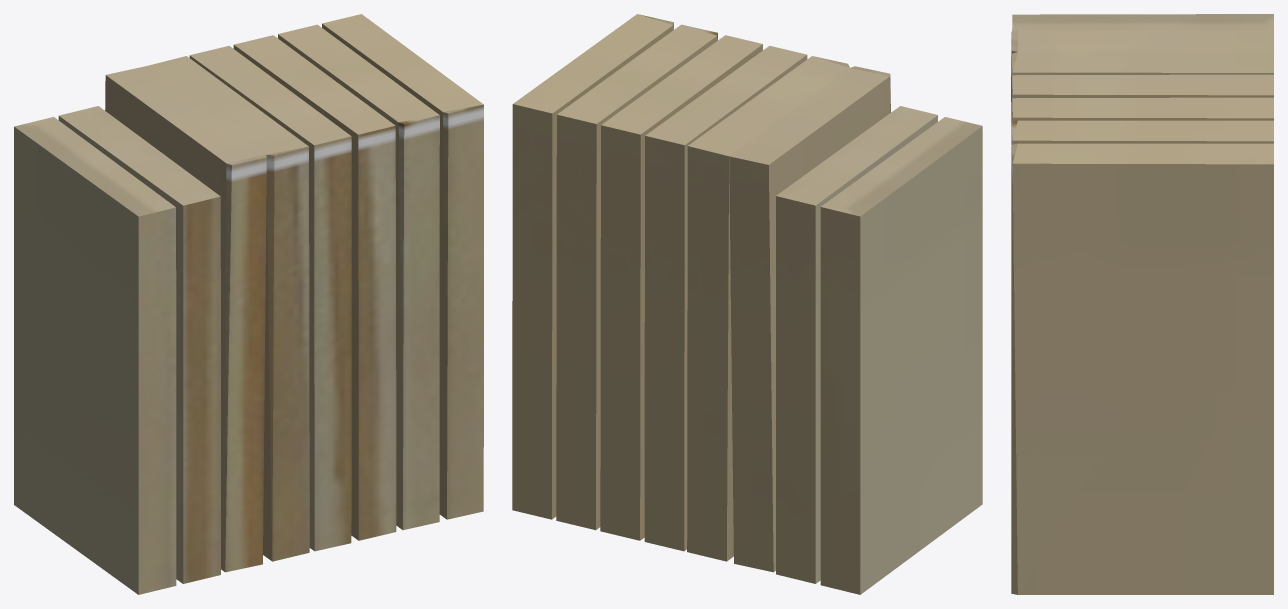
The model's file is book1_v3.dae.
3 views of the same model, side by side, from view 1: azimuth 30°, elevation 25°; view 2: azimuth 150°, elevation 25°; view 3: azimuth 270°, elevation 25° (orthographic). The views are drawn at different scales.
Visible parts, largest first — view 1: node; view 2: node; view 3: node.
Boxes of the visible parts, x1=… form: node: x1=14, y1=14, x2=483, y2=594; node: x1=512, y1=14, x2=982, y2=594; node: x1=1011, y1=14, x2=1273, y2=594.
Bounding box in the file's own units: 0.1949 × 0.2182 × 0.1203.
Materials: 1 (1 with a texture image).
